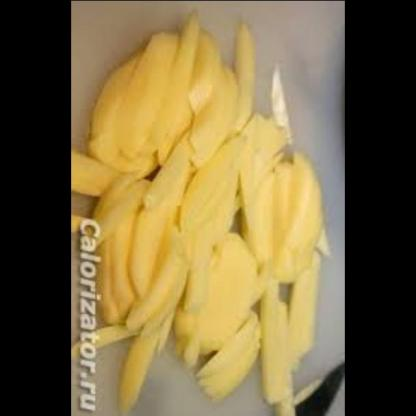potato: (72, 11, 336, 416)
